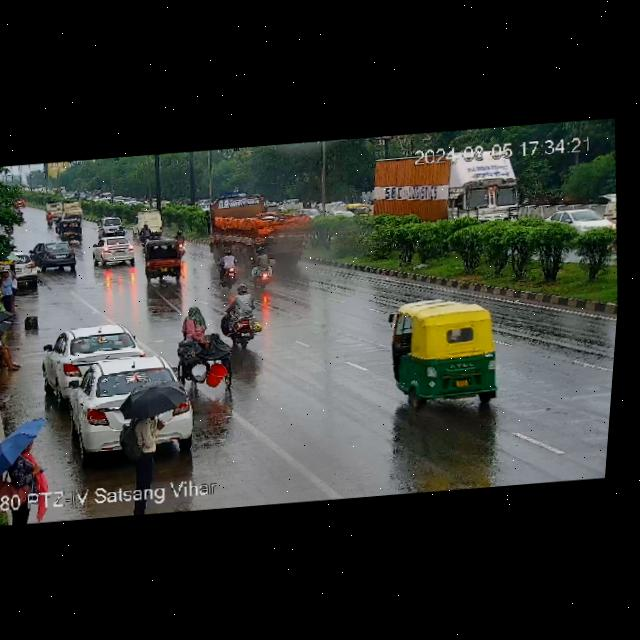car: (378, 291, 511, 418), (60, 354, 200, 463), (39, 320, 147, 387), (545, 202, 617, 234), (140, 239, 187, 279), (90, 235, 144, 269), (27, 239, 80, 273), (0, 248, 40, 288), (58, 221, 87, 242), (97, 215, 126, 234)
motorcycle: (219, 282, 264, 350), (249, 245, 276, 289), (216, 244, 241, 286), (171, 226, 189, 258), (139, 222, 155, 245), (43, 208, 61, 228)
person: (107, 384, 194, 488), (0, 415, 57, 496), (0, 310, 20, 376), (0, 268, 18, 313)
truck: (356, 142, 522, 215), (206, 186, 316, 269), (128, 207, 167, 238), (44, 198, 84, 218)
